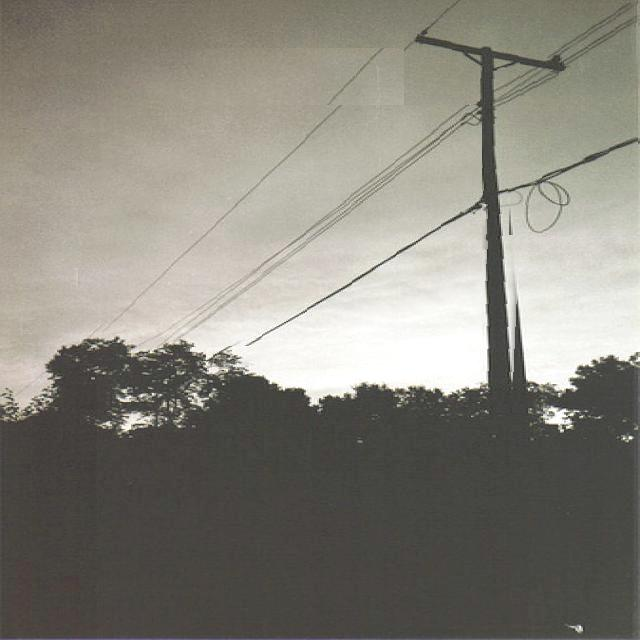crossarm: (418, 34, 565, 71)
pole: (480, 45, 517, 415)
wire: (102, 48, 388, 333), (149, 105, 482, 348), (206, 204, 489, 364), (508, 137, 638, 235), (548, 3, 639, 67), (497, 69, 559, 107), (437, 0, 463, 20)
